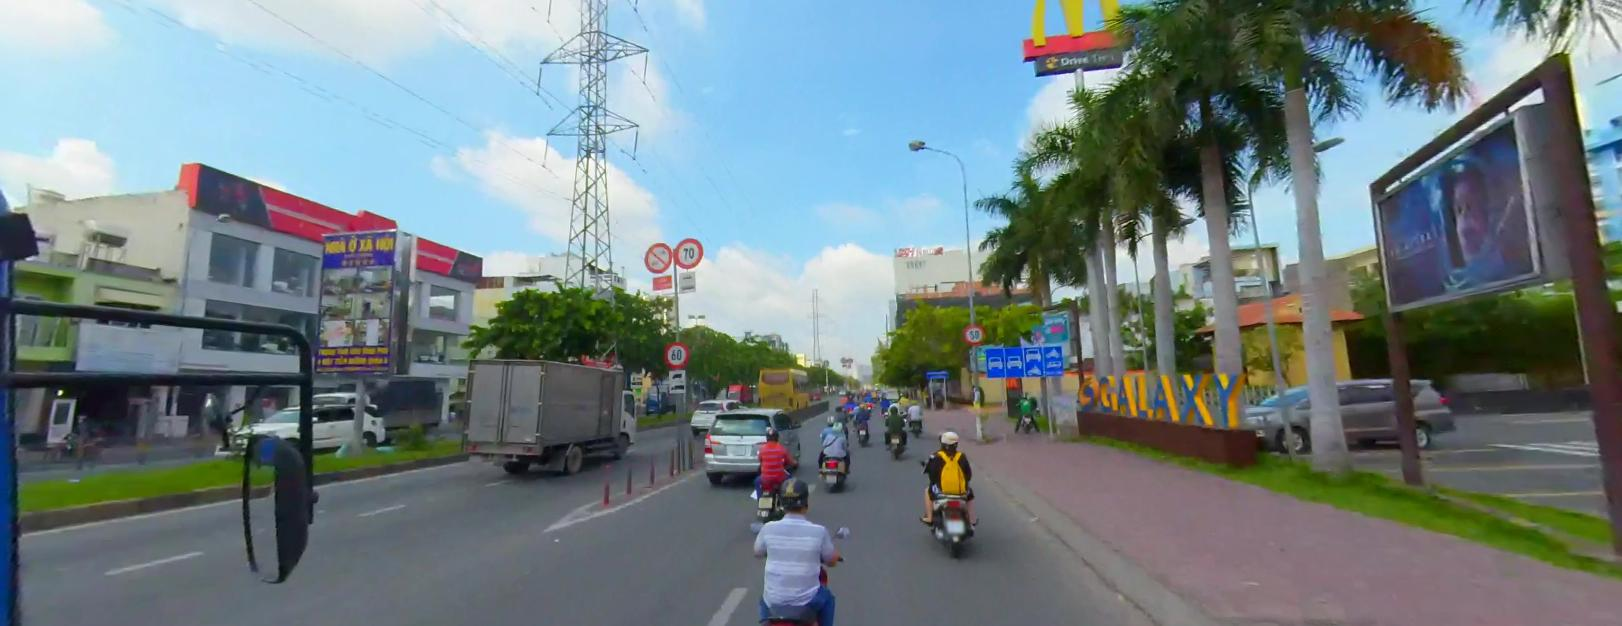Cam con lai: (644, 241, 672, 272)
Gioi han toc do: (673, 237, 702, 268), (663, 340, 689, 367), (963, 322, 986, 345)
